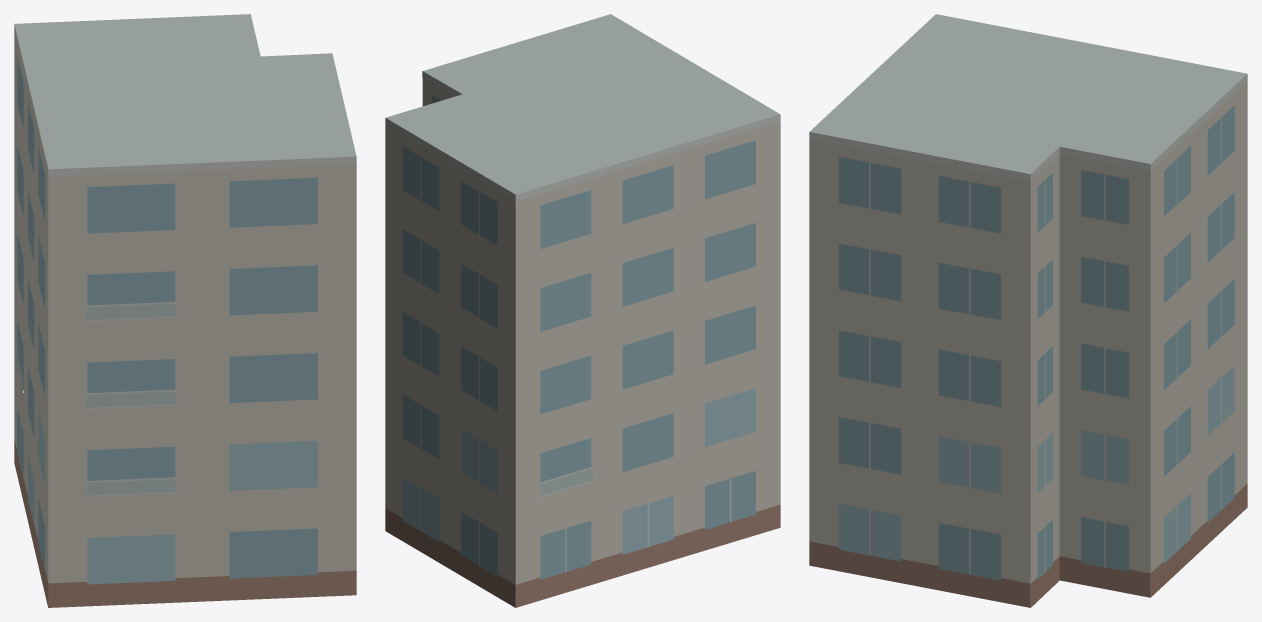
The model's file is survey-upis-32940245.glb.
The picture shows the model from 3 angles, left to right: view 1: azimuth 30°, elevation 25°; view 2: azimuth 150°, elevation 25°; view 3: azimuth 270°, elevation 25°; orthographic projection. The views are drawn at different scales.
Parts seen in each view (by area): view 1: survey-upis-32940245.tmp; view 2: survey-upis-32940245.tmp; view 3: survey-upis-32940245.tmp.
Boxes of the visible parts, box(x1,y1,x2,y2) form: survey-upis-32940245.tmp: box(14, 14, 356, 607); survey-upis-32940245.tmp: box(385, 14, 780, 607); survey-upis-32940245.tmp: box(809, 14, 1247, 607).
Size of the model in its own units: 11.38 by 14.35 by 13.15.
